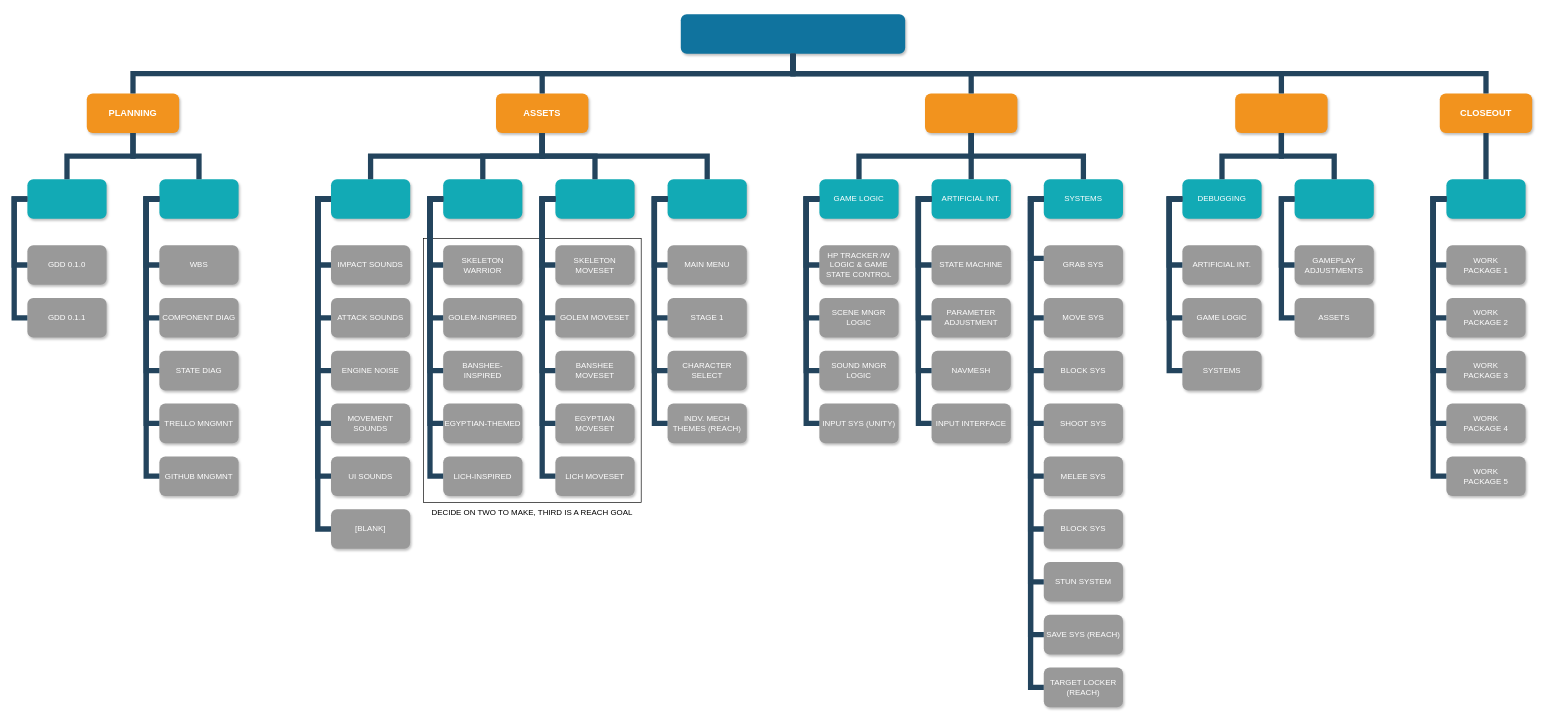
The diagram is 1547 pixels wide and 723 high, and some of its shapes have lost their labels. The centre of each missing label's shape, as x and y in pixels:
3D MECH MODELS: point (483, 199)
ANIMATIONS: point (595, 199)
CONCEPT: point (67, 199)
FIX-UPS: point (1334, 199)
FP MECHA FIGHTER: point (793, 34)
JUST CLOSEOUT: point (1486, 199)
MUSIC: point (707, 199)
POLISH: point (1281, 113)
SFX: point (371, 199)
SOFTWARE DEV: point (971, 113)
TASK PLANNING: point (199, 199)
